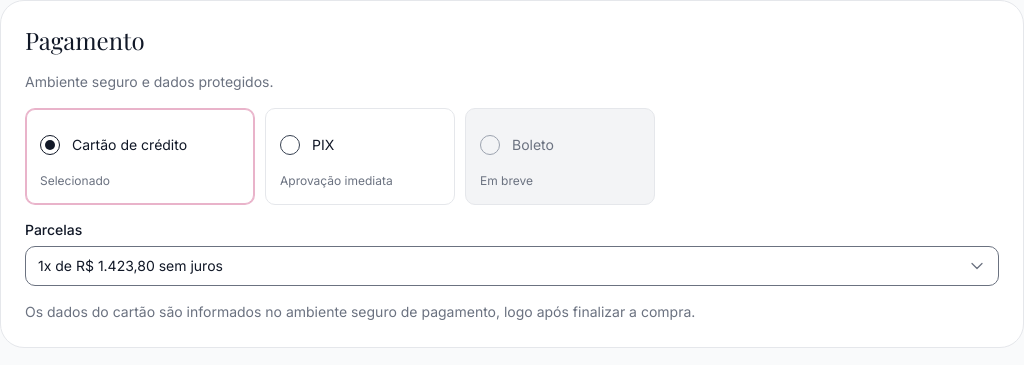
Test: PaymentSection › PIX esconde as parcelas e mostra o aviso do QR
This screenshot has width=1024, height=365.
Click the radio button labelled "PIX Aprovação imediata".
click(360, 156)  # box x1=265 y1=108 x2=455 y2=205
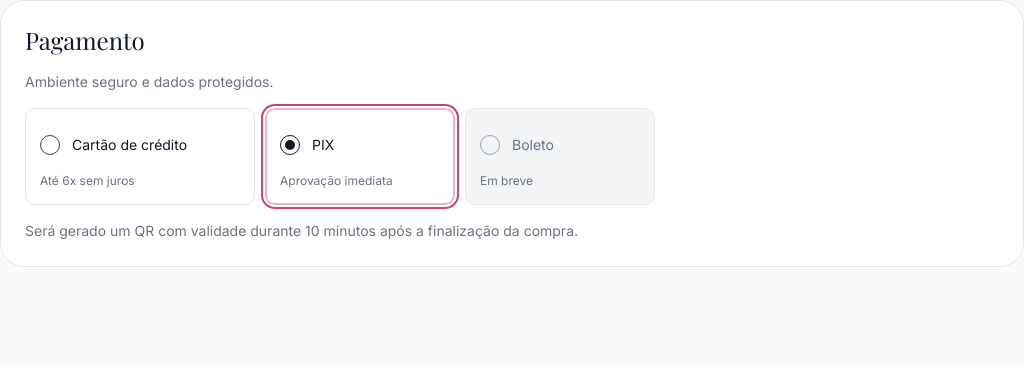
Check: the radio button labelled "PIX Aprovação imediata" is checked, box x1=265 y1=108 x2=455 y2=205
Check: the label "Parcelas" is gone
Check: the text "Será gerado um QR" is shown, box x1=25 y1=222 x2=578 y2=239
